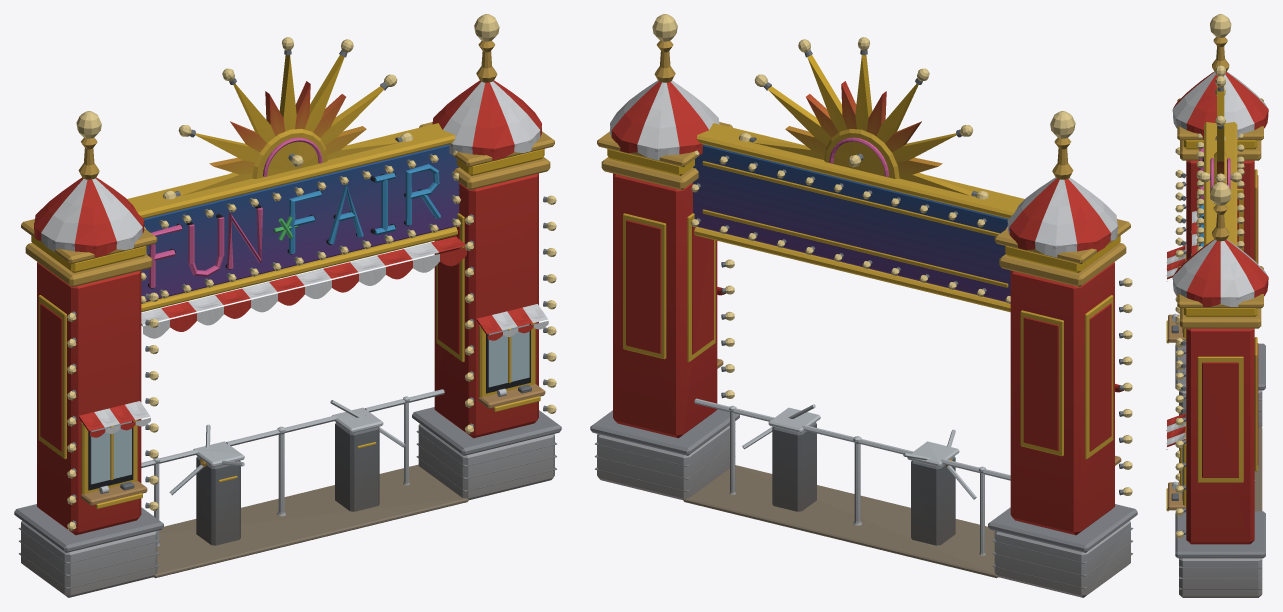
The model's file is entrance-arch.glb.
3 renders of one model, left to right at view 1: azimuth 30°, elevation 25°; view 2: azimuth 150°, elevation 25°; view 3: azimuth 270°, elevation 25°, orthographic. The views are drawn at different scales.
Parts seen in each view (by area): view 1: entrance_arch; view 2: entrance_arch; view 3: entrance_arch.
Part boxes in pixels (x1,y1,x2,y2): entrance_arch: (14, 14, 561, 597); entrance_arch: (590, 14, 1137, 597); entrance_arch: (1166, 14, 1268, 597).
Bounding box in the file's own units: 5.38 × 5.02 × 1.11.
